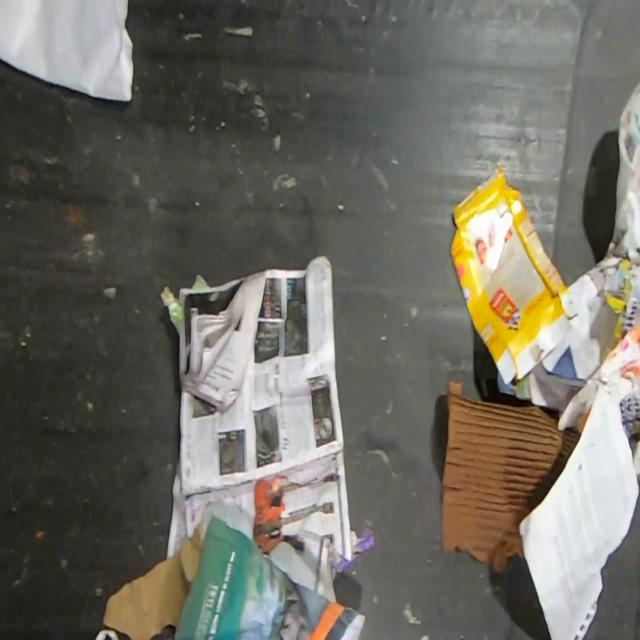cardboard: (449, 163, 580, 389), (441, 378, 582, 575), (100, 517, 204, 640)
